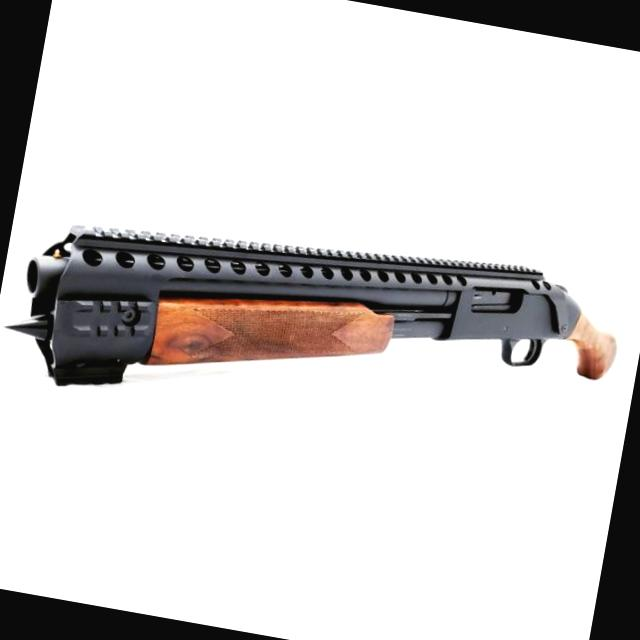shotgun: (0, 171, 628, 478)
